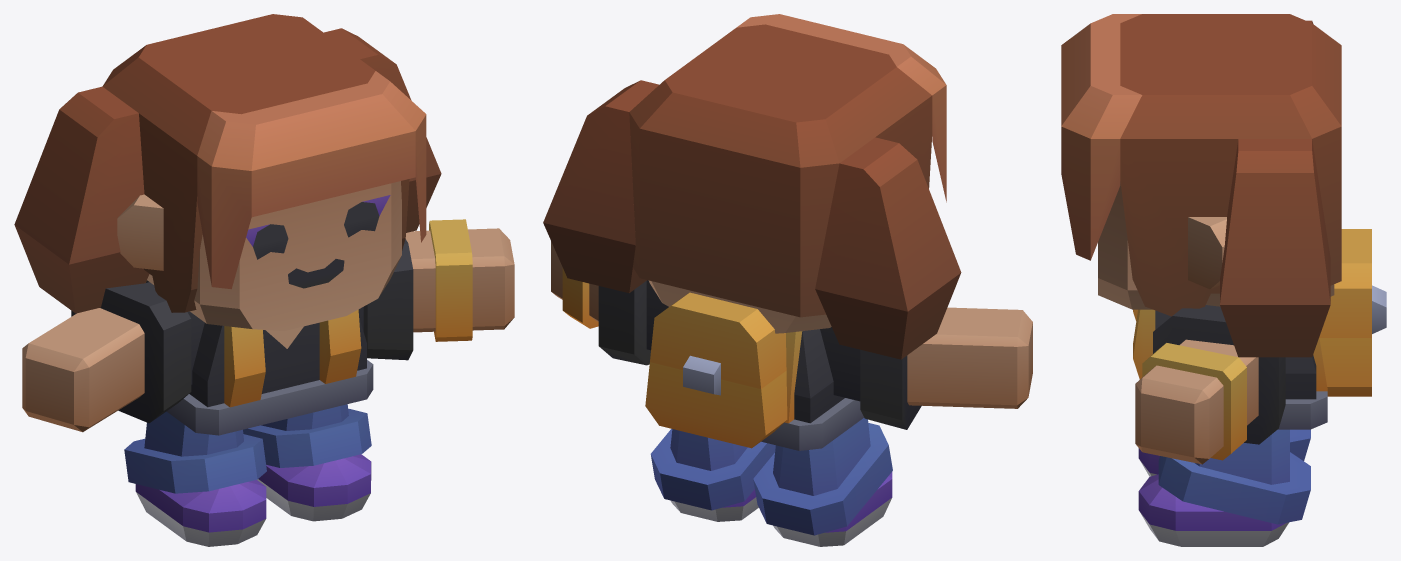
Rendered from citizen-female-f.glb.
3 views of the same model, side by side, from view 1: azimuth 30°, elevation 25°; view 2: azimuth 150°, elevation 25°; view 3: azimuth 270°, elevation 25° (orthographic). The views are drawn at different scales.
Visible parts, largest first — view 1: citizen-female-f; view 2: citizen-female-f; view 3: citizen-female-f.
Boxes of the visible parts, x1,y1,x2,y2 form: citizen-female-f: (14, 14, 514, 546); citizen-female-f: (543, 14, 1032, 546); citizen-female-f: (1061, 14, 1386, 546).
Bounding box in the file's own units: 1.14 × 1 × 0.657.
